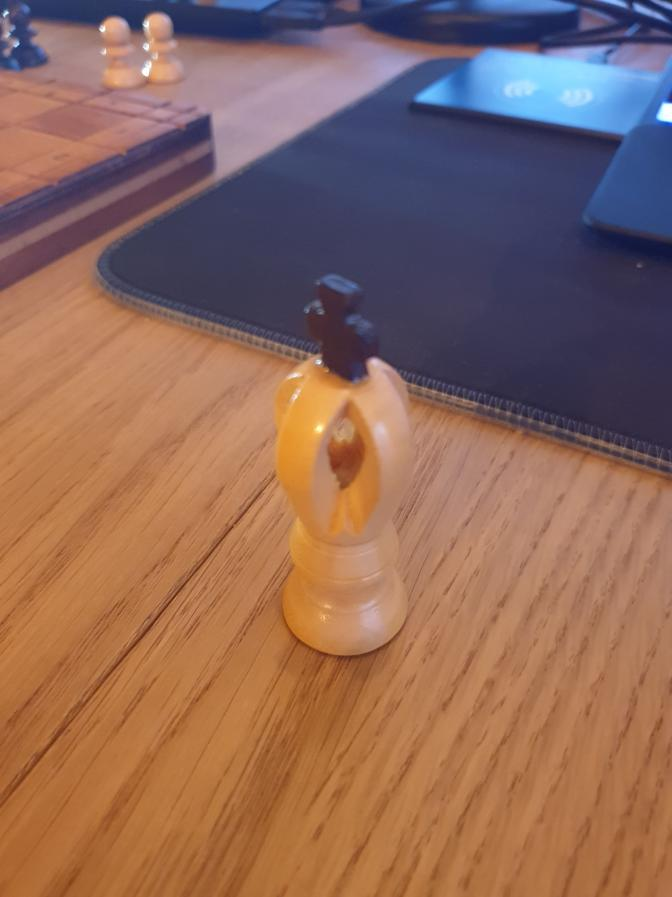wking: (272, 271, 420, 664)
